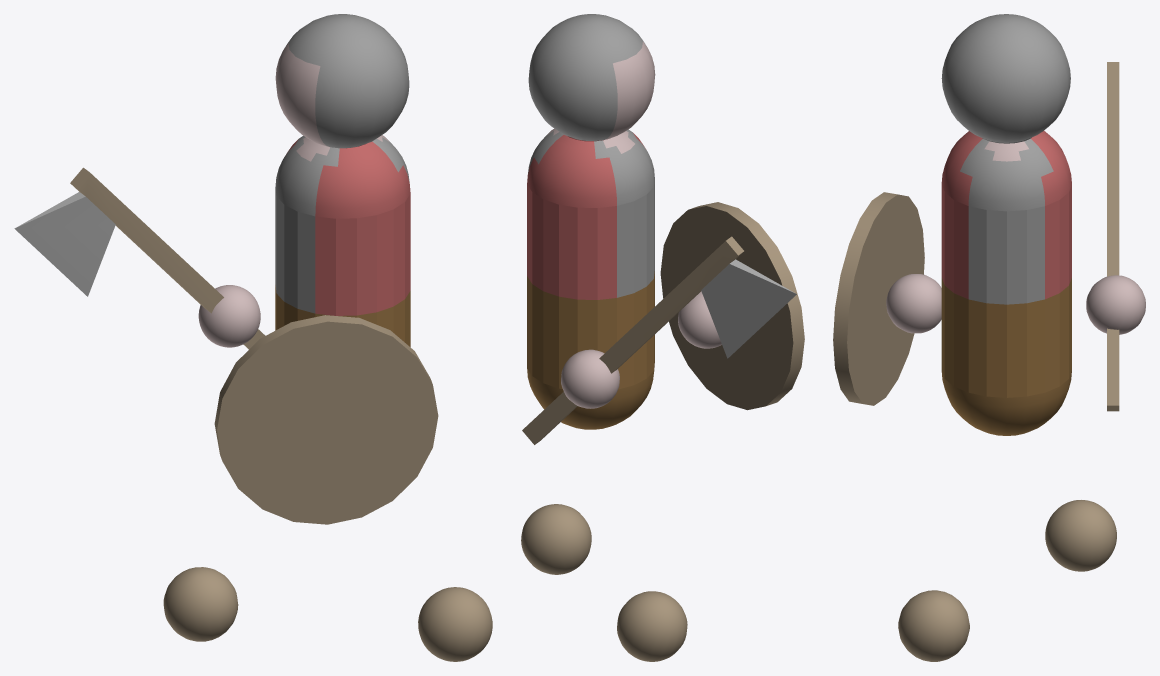
File: enemy_maruadrer_mesh_noAni.fbx
3 views of the same model, side by side, from view 1: azimuth 30°, elevation 25°; view 2: azimuth 150°, elevation 25°; view 3: azimuth 270°, elevation 25° (orthographic). The views are drawn at different scales.
Parts seen in each view (by area): view 1: pCylinder1, polySurface5, polySurface4, pCube1, polySurface8, polySurface9, polySurface6; view 2: polySurface5, pCylinder1, polySurface4, pCube1, polySurface8, polySurface9, polySurface6, polySurface7; view 3: polySurface5, pCylinder1, polySurface4, polySurface9, polySurface8, pCube1, polySurface6, polySurface7.
Part boxes in pixels (x1=…): pCylinder1: x1=214, y1=315, x2=438, y2=524; polySurface5: x1=275, y1=135, x2=410, y2=346; polySurface4: x1=275, y1=14, x2=409, y2=148; pCube1: x1=14, y1=167, x2=265, y2=349; polySurface8: x1=418, y1=587, x2=492, y2=661; polySurface9: x1=163, y1=567, x2=238, y2=641; polySurface6: x1=198, y1=285, x2=260, y2=347; polySurface5: x1=527, y1=128, x2=654, y2=429; pCylinder1: x1=660, y1=202, x2=804, y2=410; polySurface4: x1=528, y1=14, x2=655, y2=140; pCube1: x1=522, y1=236, x2=796, y2=444; polySurface8: x1=521, y1=504, x2=591, y2=574; polySurface9: x1=617, y1=591, x2=687, y2=661; polySurface6: x1=561, y1=349, x2=619, y2=408; polySurface7: x1=678, y1=291, x2=721, y2=348; polySurface5: x1=941, y1=131, x2=1071, y2=435; pCylinder1: x1=833, y1=192, x2=924, y2=405; polySurface4: x1=941, y1=14, x2=1070, y2=142; polySurface9: x1=1045, y1=500, x2=1116, y2=571; polySurface8: x1=898, y1=590, x2=969, y2=661; pCube1: x1=1107, y1=62, x2=1119, y2=411; polySurface6: x1=1086, y1=275, x2=1145, y2=334; polySurface7: x1=886, y1=274, x2=941, y2=333.
Bounding box in the file's own units: 134 × 213 × 99.82.
